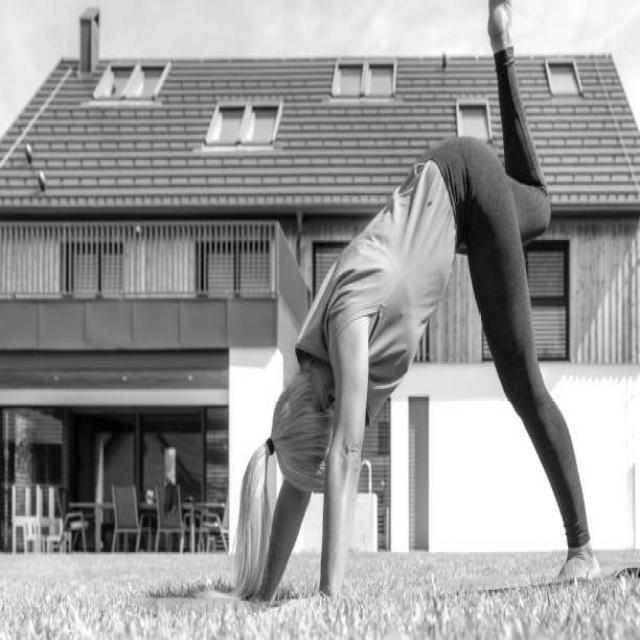Downward-Facing_Dog: (179, 130, 614, 616)
